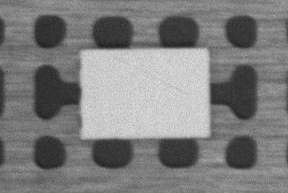DIE_CRACK: (172, 38, 279, 63)
